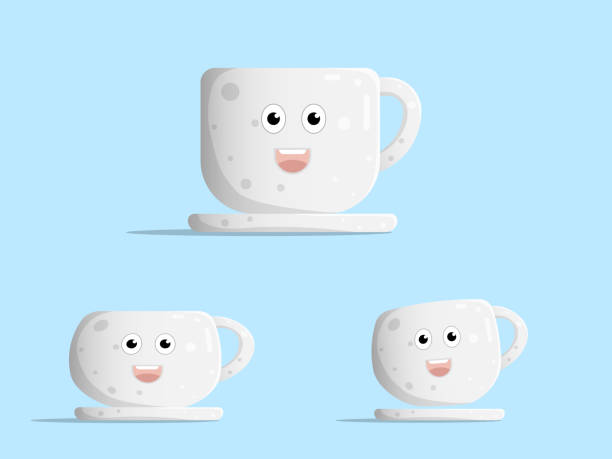cup: (12, 10, 545, 416)
